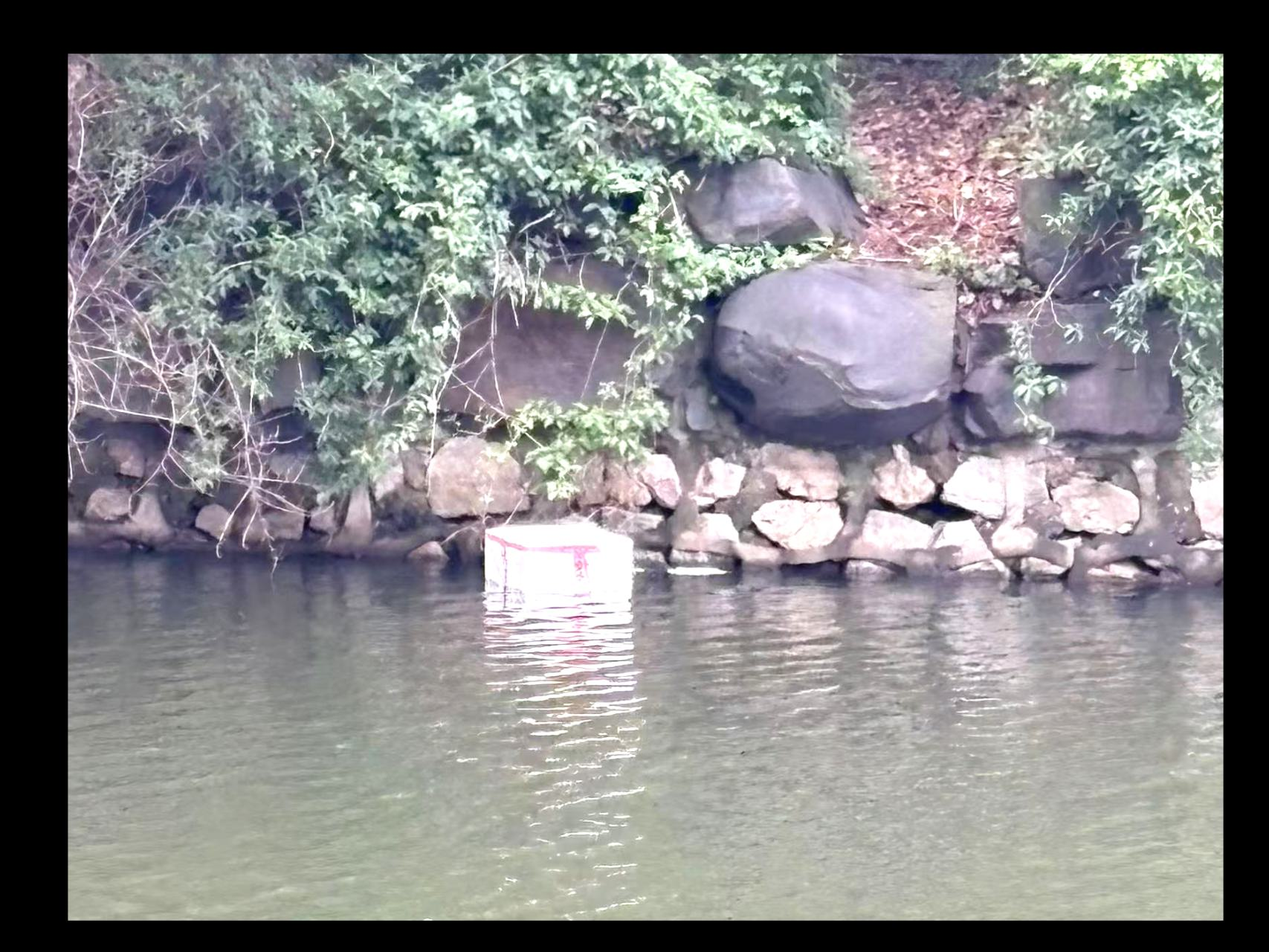Plastic wastes: (480, 522, 631, 594)
